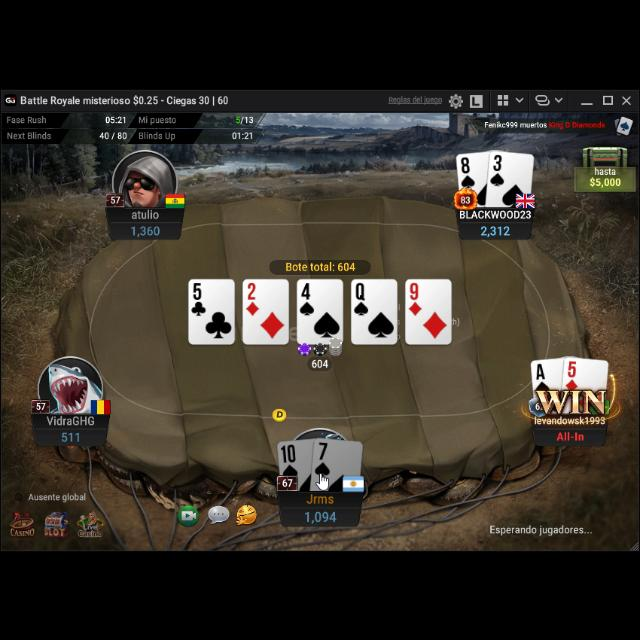2d: (245, 279, 261, 315)
3s: (488, 150, 506, 184)
4s: (298, 278, 316, 316)
5c: (190, 278, 208, 316)
5d: (565, 357, 579, 388)
7s: (314, 438, 332, 477)
8s: (458, 152, 478, 188)
9d: (407, 278, 423, 316)
As: (532, 358, 552, 390), (534, 359, 552, 391)
Qs: (352, 278, 370, 316)
Ts: (280, 439, 300, 475)
all_in_symbol: (556, 426, 584, 440)
bet_text: (310, 355, 330, 367)
dealer: (270, 404, 288, 420)
pot_text: (284, 258, 358, 270)
stack_text: (304, 505, 338, 521), (479, 221, 511, 235), (131, 221, 161, 235), (60, 426, 82, 439)
